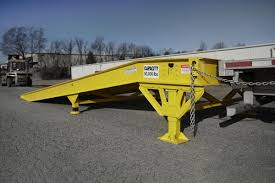Yard Ramp: (19, 57, 223, 104)
